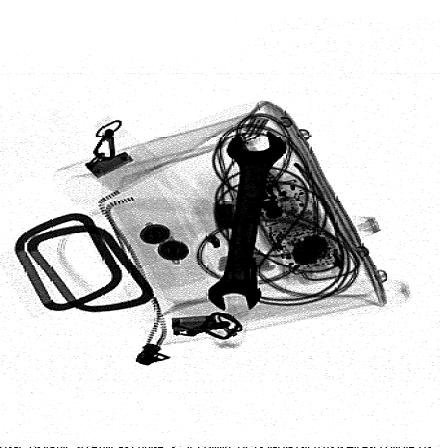Wrench: (207, 128, 288, 314)
